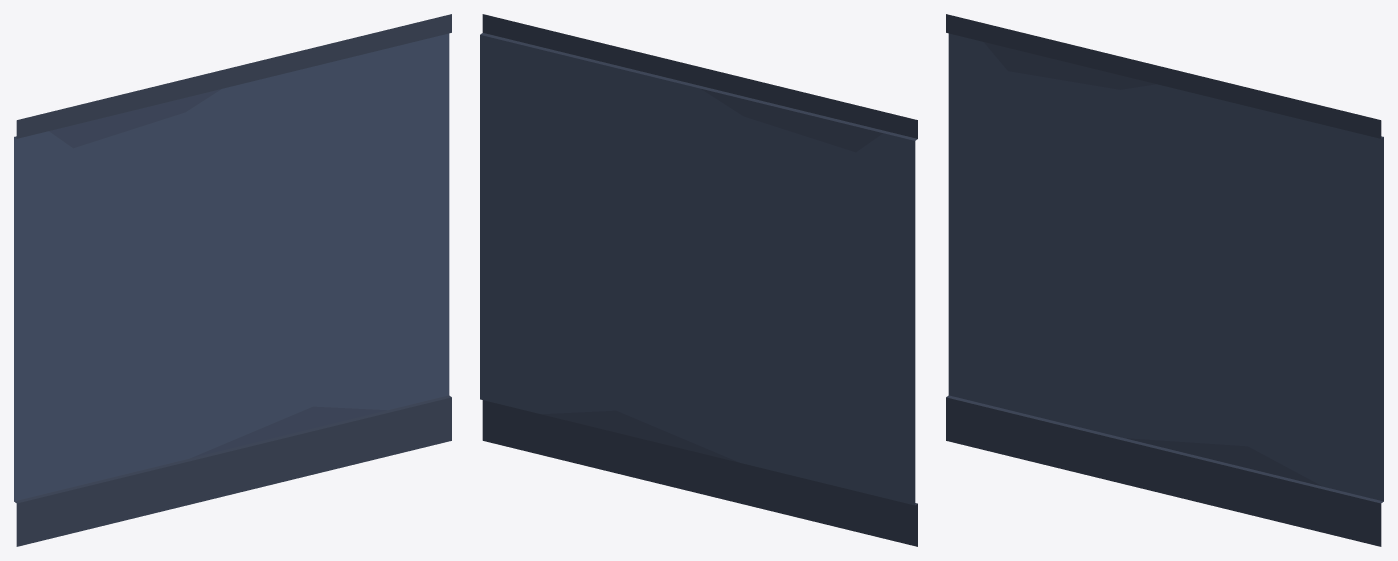
File: AI_Env_Wall_Blue_Blank.fbx
The picture shows the model from 3 angles, left to right: view 1: azimuth 30°, elevation 25°; view 2: azimuth 150°, elevation 25°; view 3: azimuth 330°, elevation 25°; orthographic projection.
Parts seen in each view (by area): view 1: AI_Env_Wall_Blue_Blank; view 2: AI_Env_Wall_Blue_Blank; view 3: AI_Env_Wall_Blue_Blank.
Part boxes in pixels (x1=…): AI_Env_Wall_Blue_Blank: x1=14, y1=14, x2=451, y2=546; AI_Env_Wall_Blue_Blank: x1=480, y1=14, x2=917, y2=546; AI_Env_Wall_Blue_Blank: x1=946, y1=14, x2=1383, y2=546.
Size of the model in its own units: 5 by 4.69 by 0.0549.
